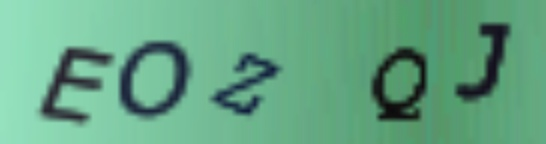E: (38, 45, 117, 126)
J: (449, 19, 512, 105)
O: (115, 39, 195, 120)
Q: (368, 43, 433, 121)
Z: (209, 52, 284, 117)
